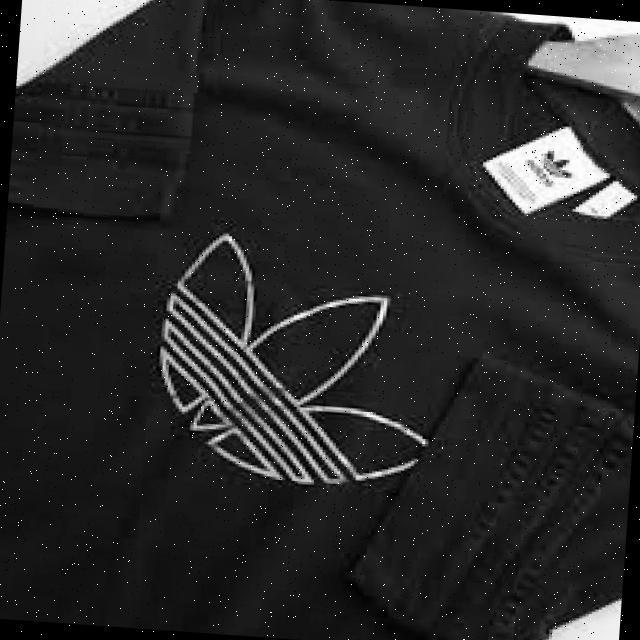Adidas: (522, 144, 577, 190)
